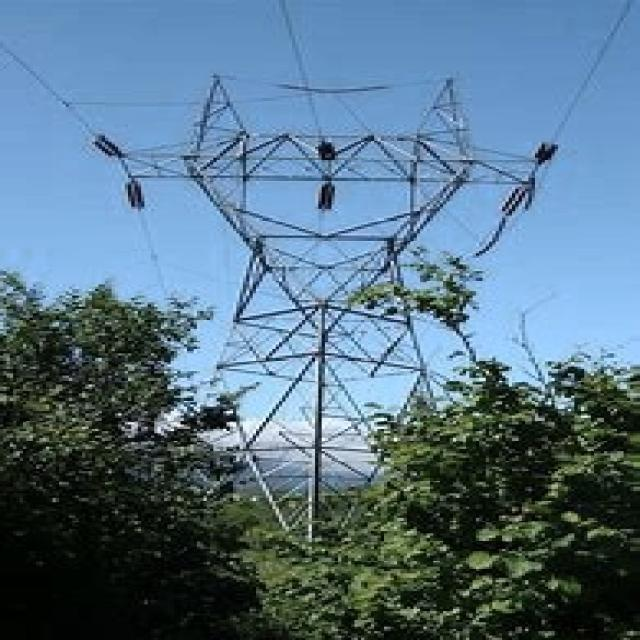utility poles: (328, 274, 502, 540), (125, 284, 298, 530)
